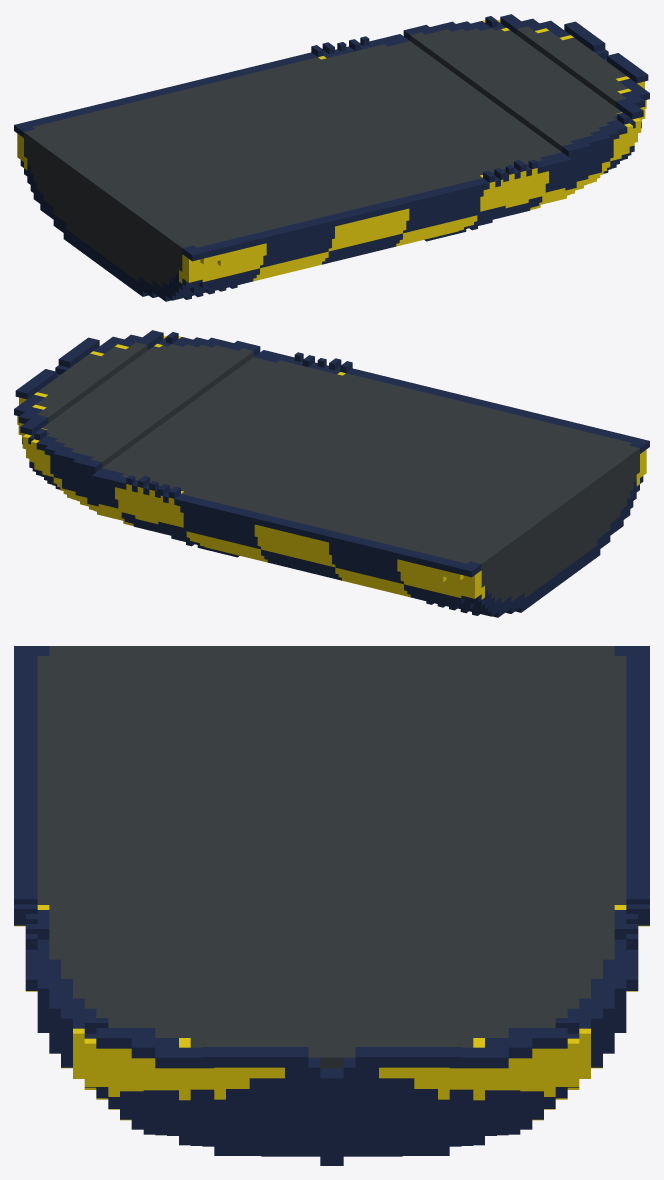
File: police_helicopter_belly.glb
3 views of the same model, one above another, from view 1: azimuth 30°, elevation 25°; view 2: azimuth 150°, elevation 25°; view 3: azimuth 270°, elevation 25° (orthographic). The views are drawn at different scales.
Visible parts, largest first — view 1: body:compound; view 2: body:compound; view 3: body:compound.
Boxes of the visible parts, x1,y1,x2,y2 form: body:compound: [14, 14, 649, 301]; body:compound: [14, 330, 649, 617]; body:compound: [14, 646, 649, 1165].
Bounding box in the file's own units: 2.78 × 0.5312 × 1.69.
